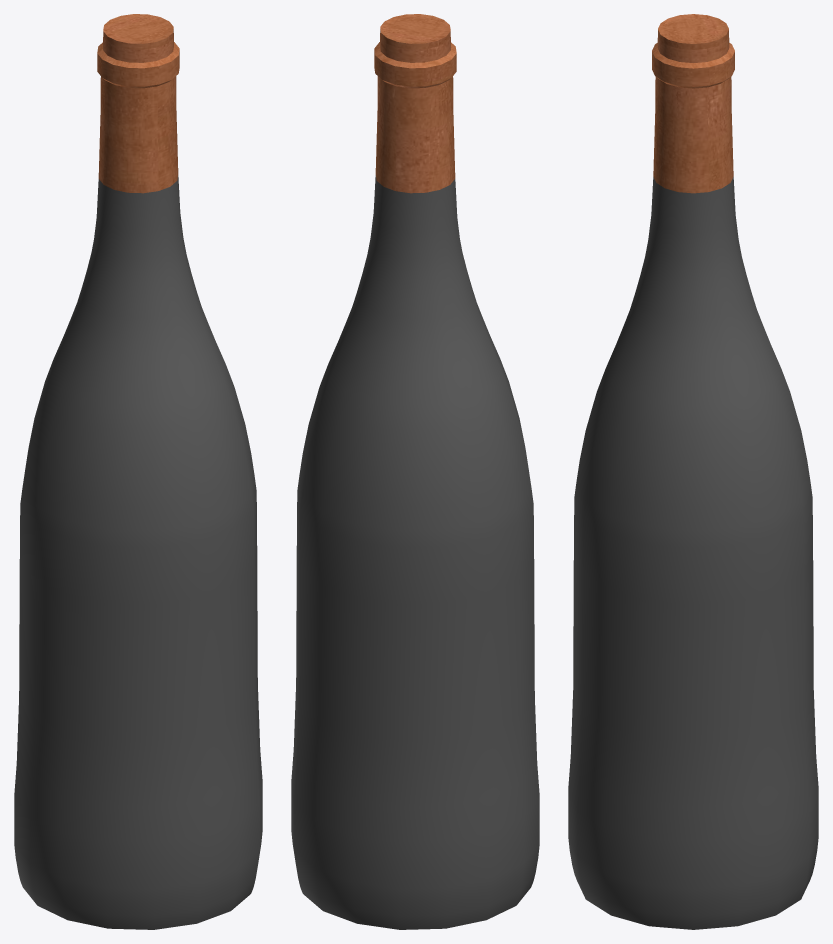
File: BottigliaScenografia.fbx
3 views of the same model, side by side, from view 1: azimuth 30°, elevation 25°; view 2: azimuth 150°, elevation 25°; view 3: azimuth 270°, elevation 25° (orthographic).
Parts seen in each view (by area): view 1: Bottle; view 2: Bottle; view 3: Bottle.
Part boxes in pixels (bbox=[...]): Bottle: bbox=[14, 14, 262, 929]; Bottle: bbox=[291, 14, 539, 929]; Bottle: bbox=[568, 14, 818, 929].
Size of the model in its own units: 7.8 by 29.24 by 7.8.
